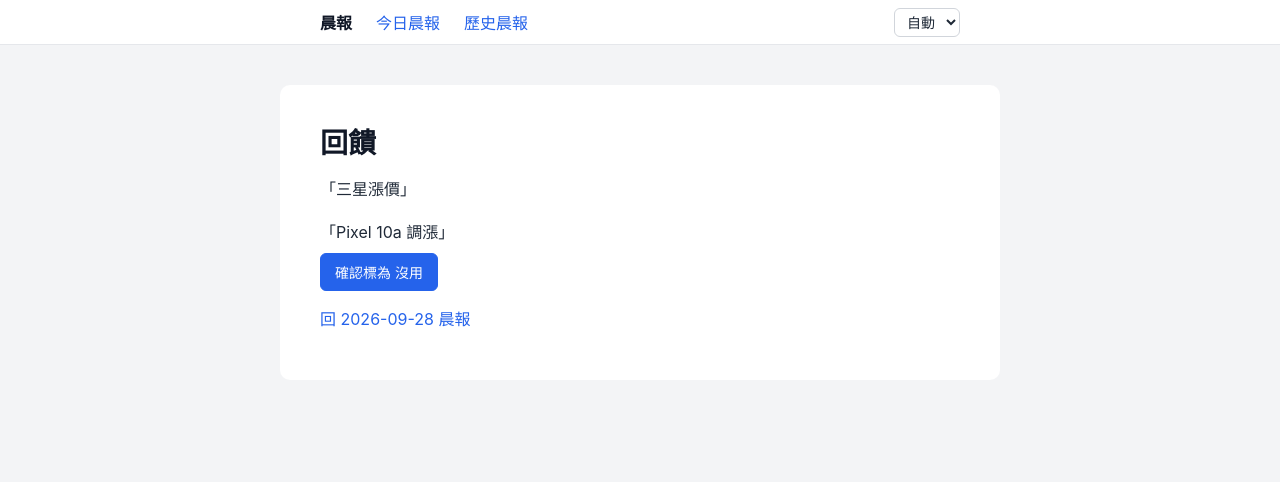
Test: /feedback/<uid>,<uid>（併了多篇的新聞） › 部分寫入失敗：顯示錯誤、按鈕還在、不假裝成功；成功的那篇不會被收回
Click the button "確認標為 沒用" at [379, 272], box [320, 253, 438, 291]
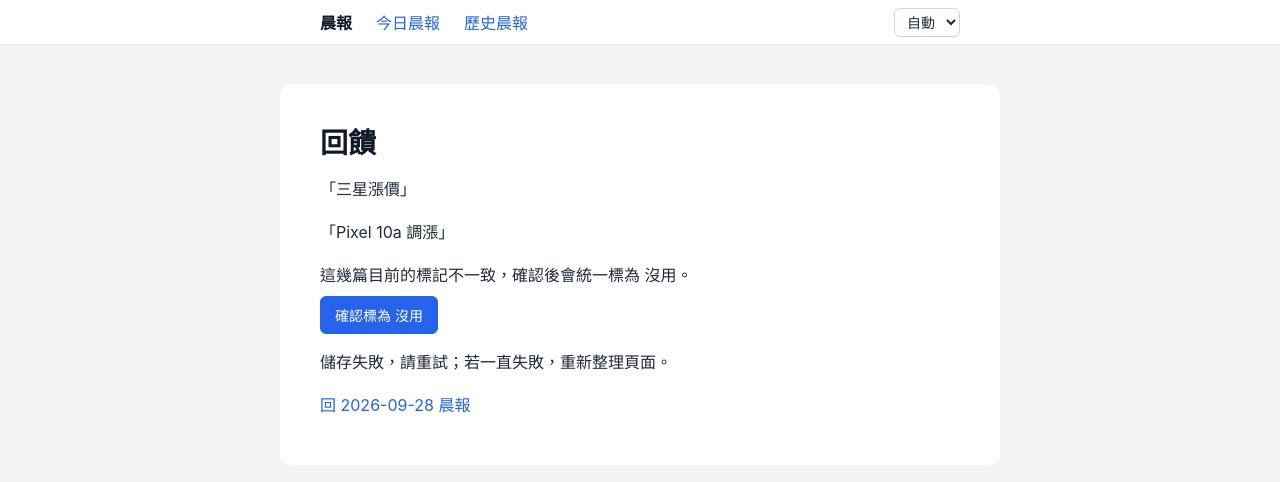
Check: the button "確認標為 沒用" is enabled, box [320, 296, 438, 334]
Check: the text "儲存失敗，請重試；若一直失敗，重新整理頁面。" is shown, box [320, 352, 672, 372]
Check: the text "這幾篇目前的標記不一致，確認後會統一標為 沒用。" is shown, box [320, 265, 692, 285]
